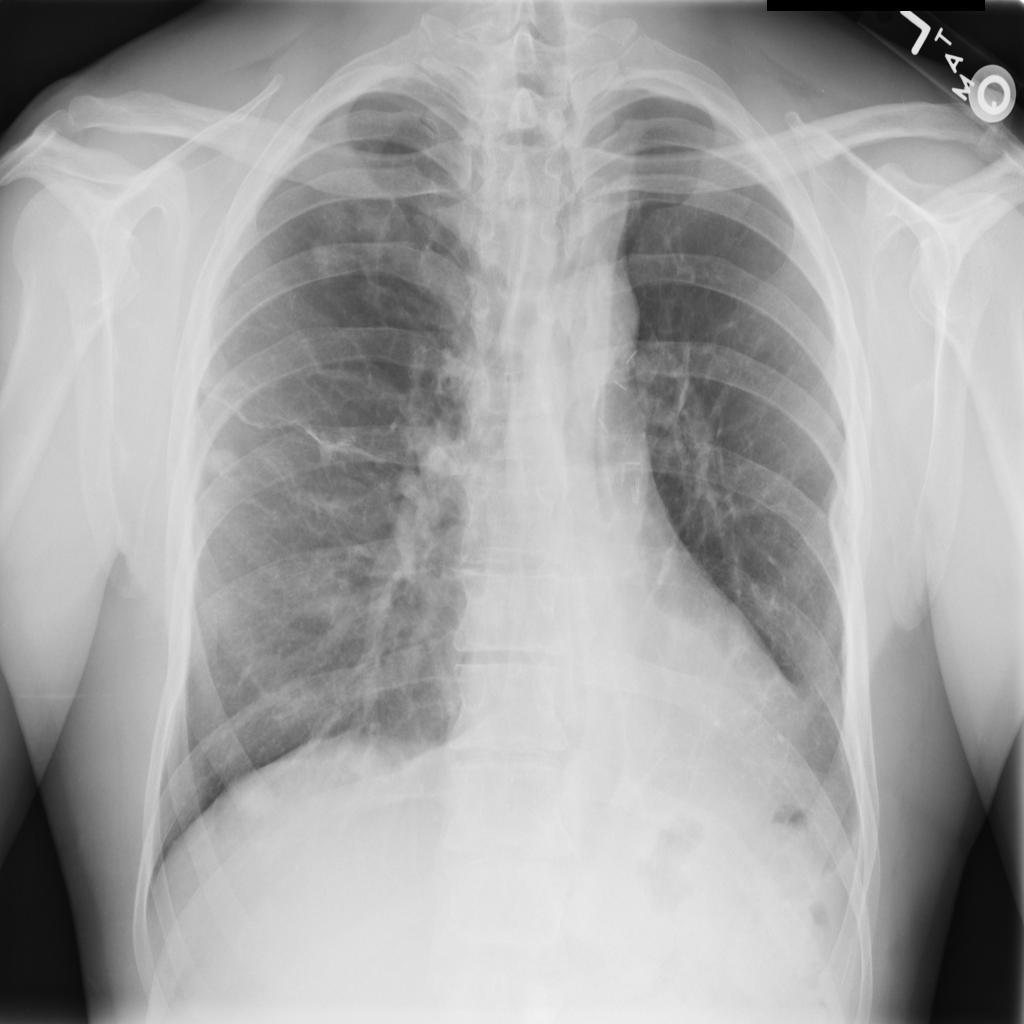nodule: (282, 204, 383, 303), (198, 435, 250, 486)
